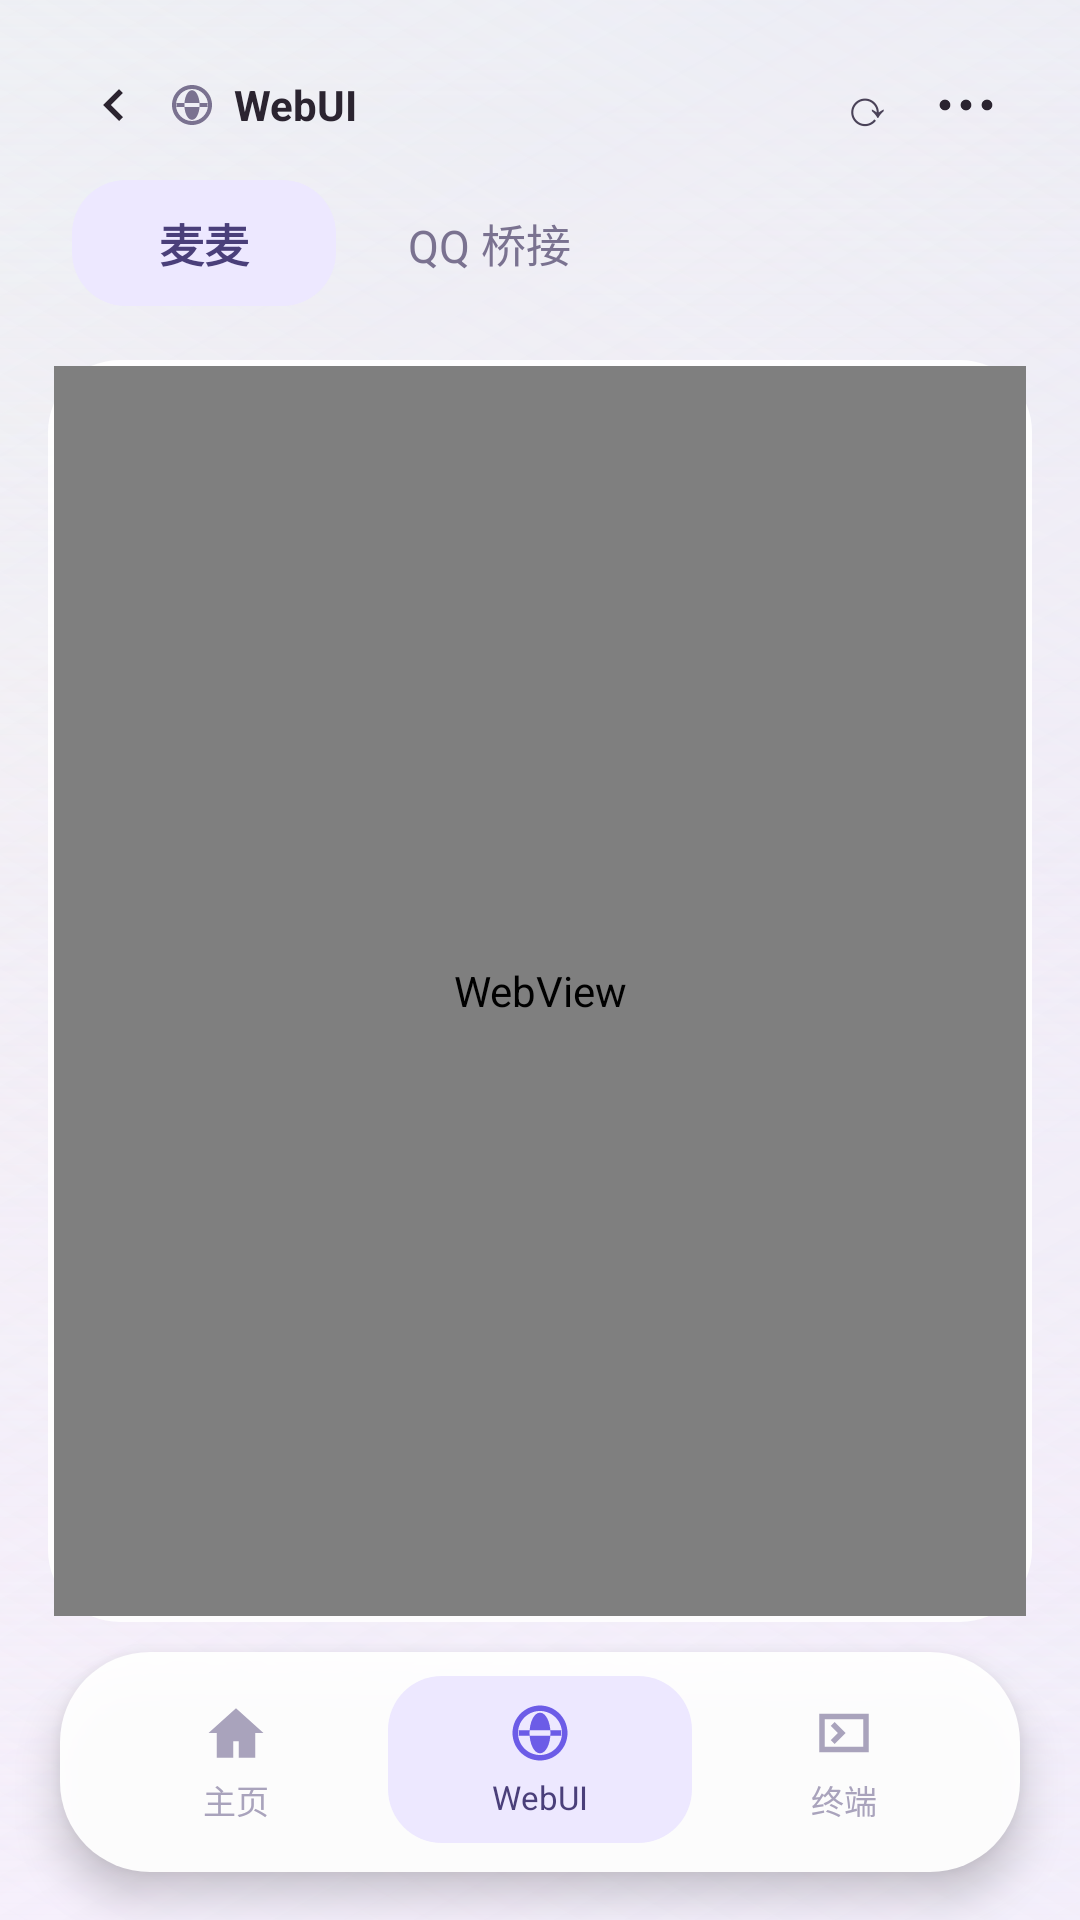

Where icons sit on this 1080w x 1920h app screen, as (x1, y1, x2, y2):
globe: (172, 85, 212, 125), (512, 1705, 568, 1761)
更多: (939, 99, 993, 111)
